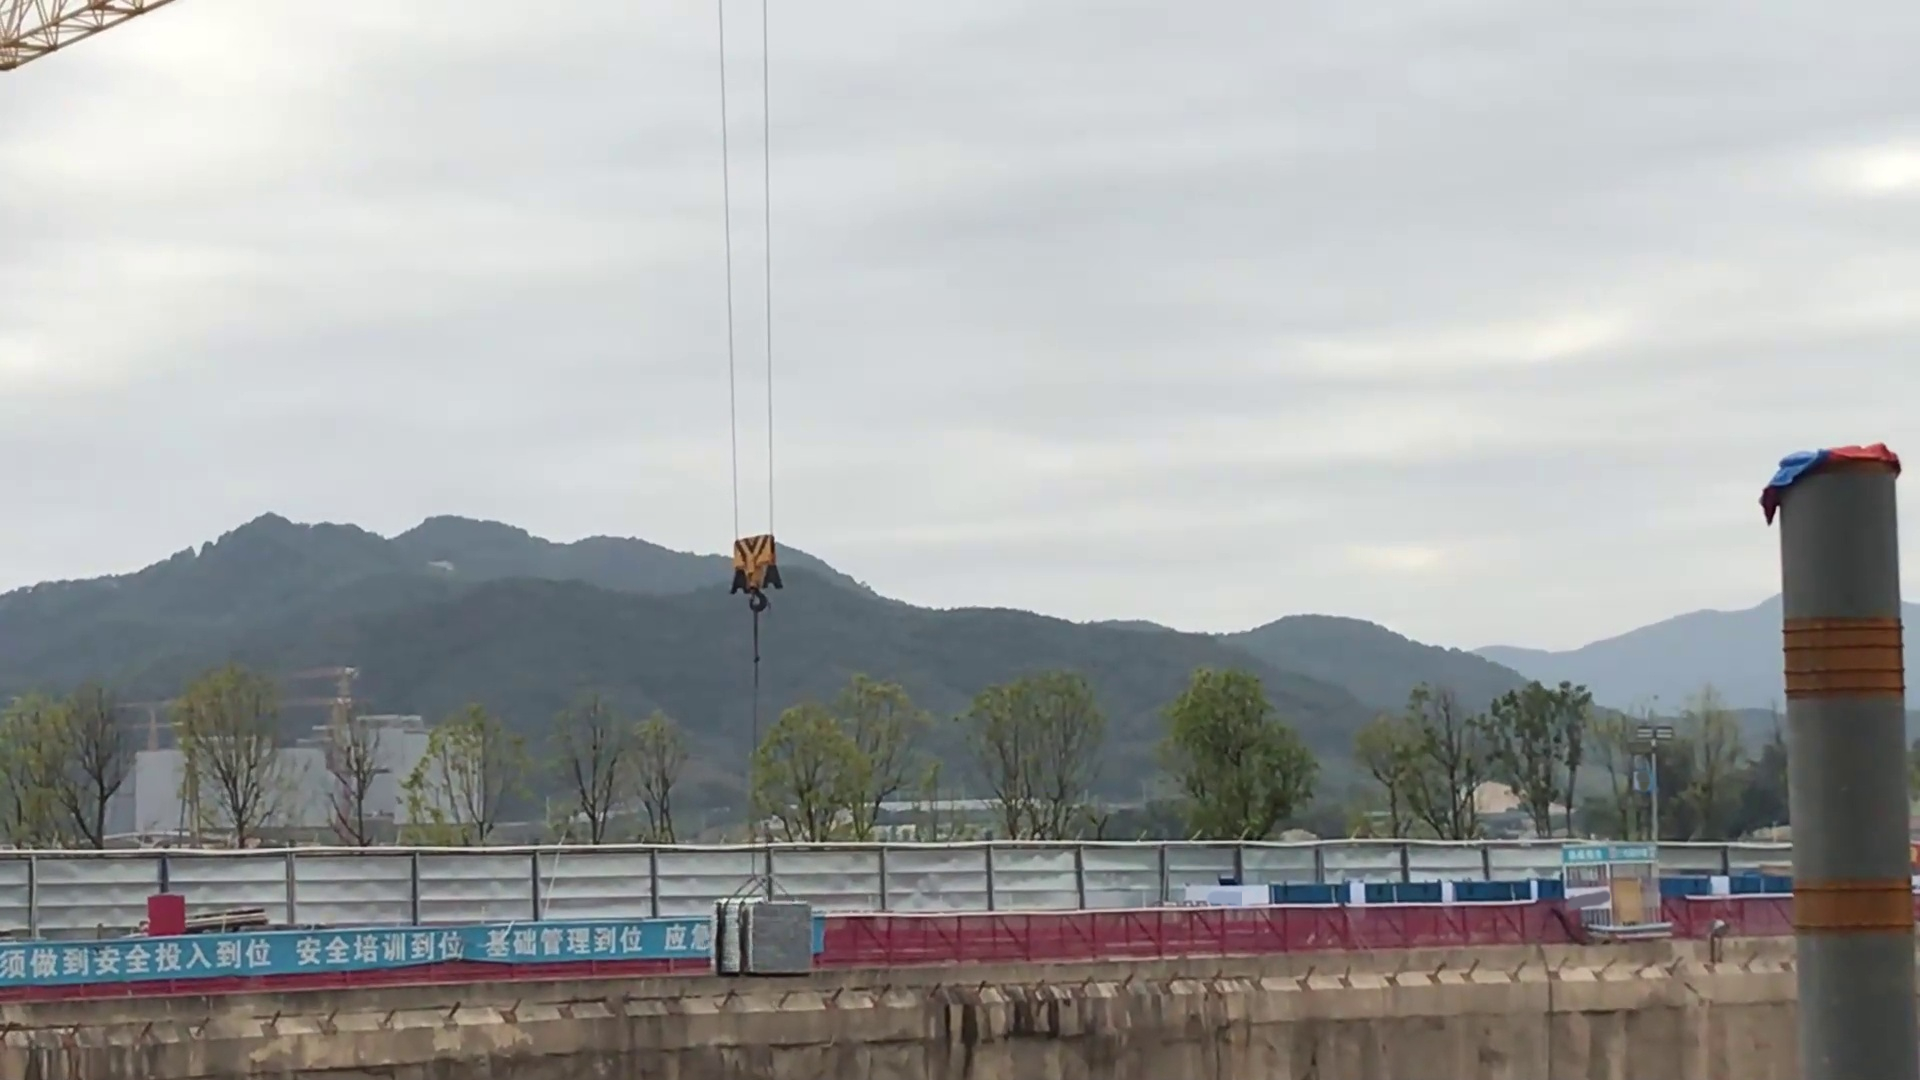fence: (3, 891, 1846, 1006)
hook: (713, 531, 810, 615)
scaffold: (713, 897, 819, 972)
slogan: (5, 920, 828, 986)
